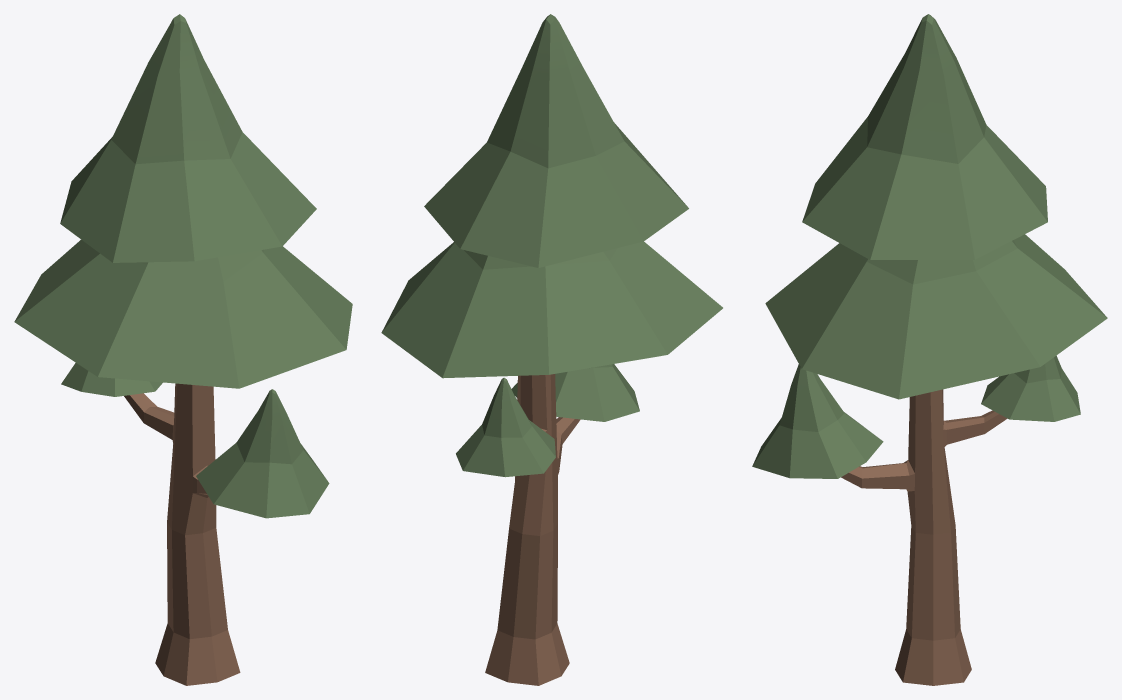
File: Pine_Trees_Pack_Pine_02.003.fbx
The picture shows the model from 3 angles, left to right: view 1: azimuth 30°, elevation 25°; view 2: azimuth 150°, elevation 25°; view 3: azimuth 270°, elevation 25°; orthographic projection. The views are drawn at different scales.
Parts seen in each view (by area): view 1: Pine_Trees_Pack_Pine_02.003; view 2: Pine_Trees_Pack_Pine_02.003; view 3: Pine_Trees_Pack_Pine_02.003.
Part boxes in pixels (x1=…): Pine_Trees_Pack_Pine_02.003: x1=14, y1=14, x2=352, y2=685; Pine_Trees_Pack_Pine_02.003: x1=381, y1=14, x2=722, y2=685; Pine_Trees_Pack_Pine_02.003: x1=752, y1=14, x2=1107, y2=685.
Bounding box in the file's own units: 162 × 341 × 170.
